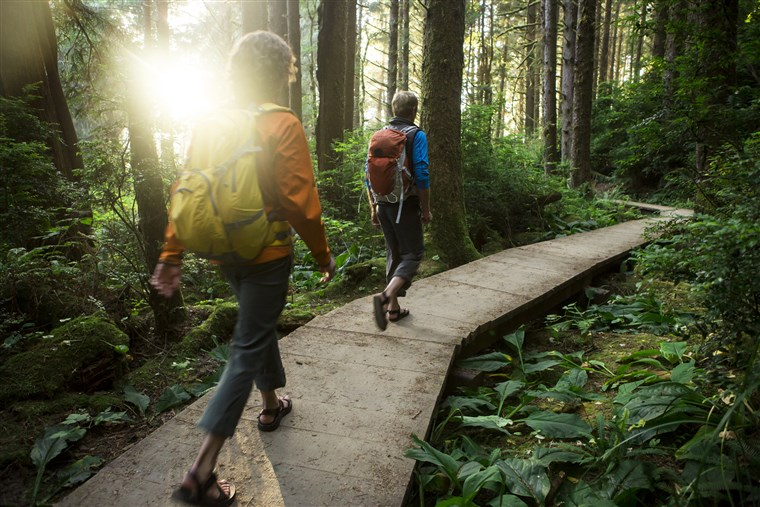NOTSAFE: (370, 86, 421, 210)
